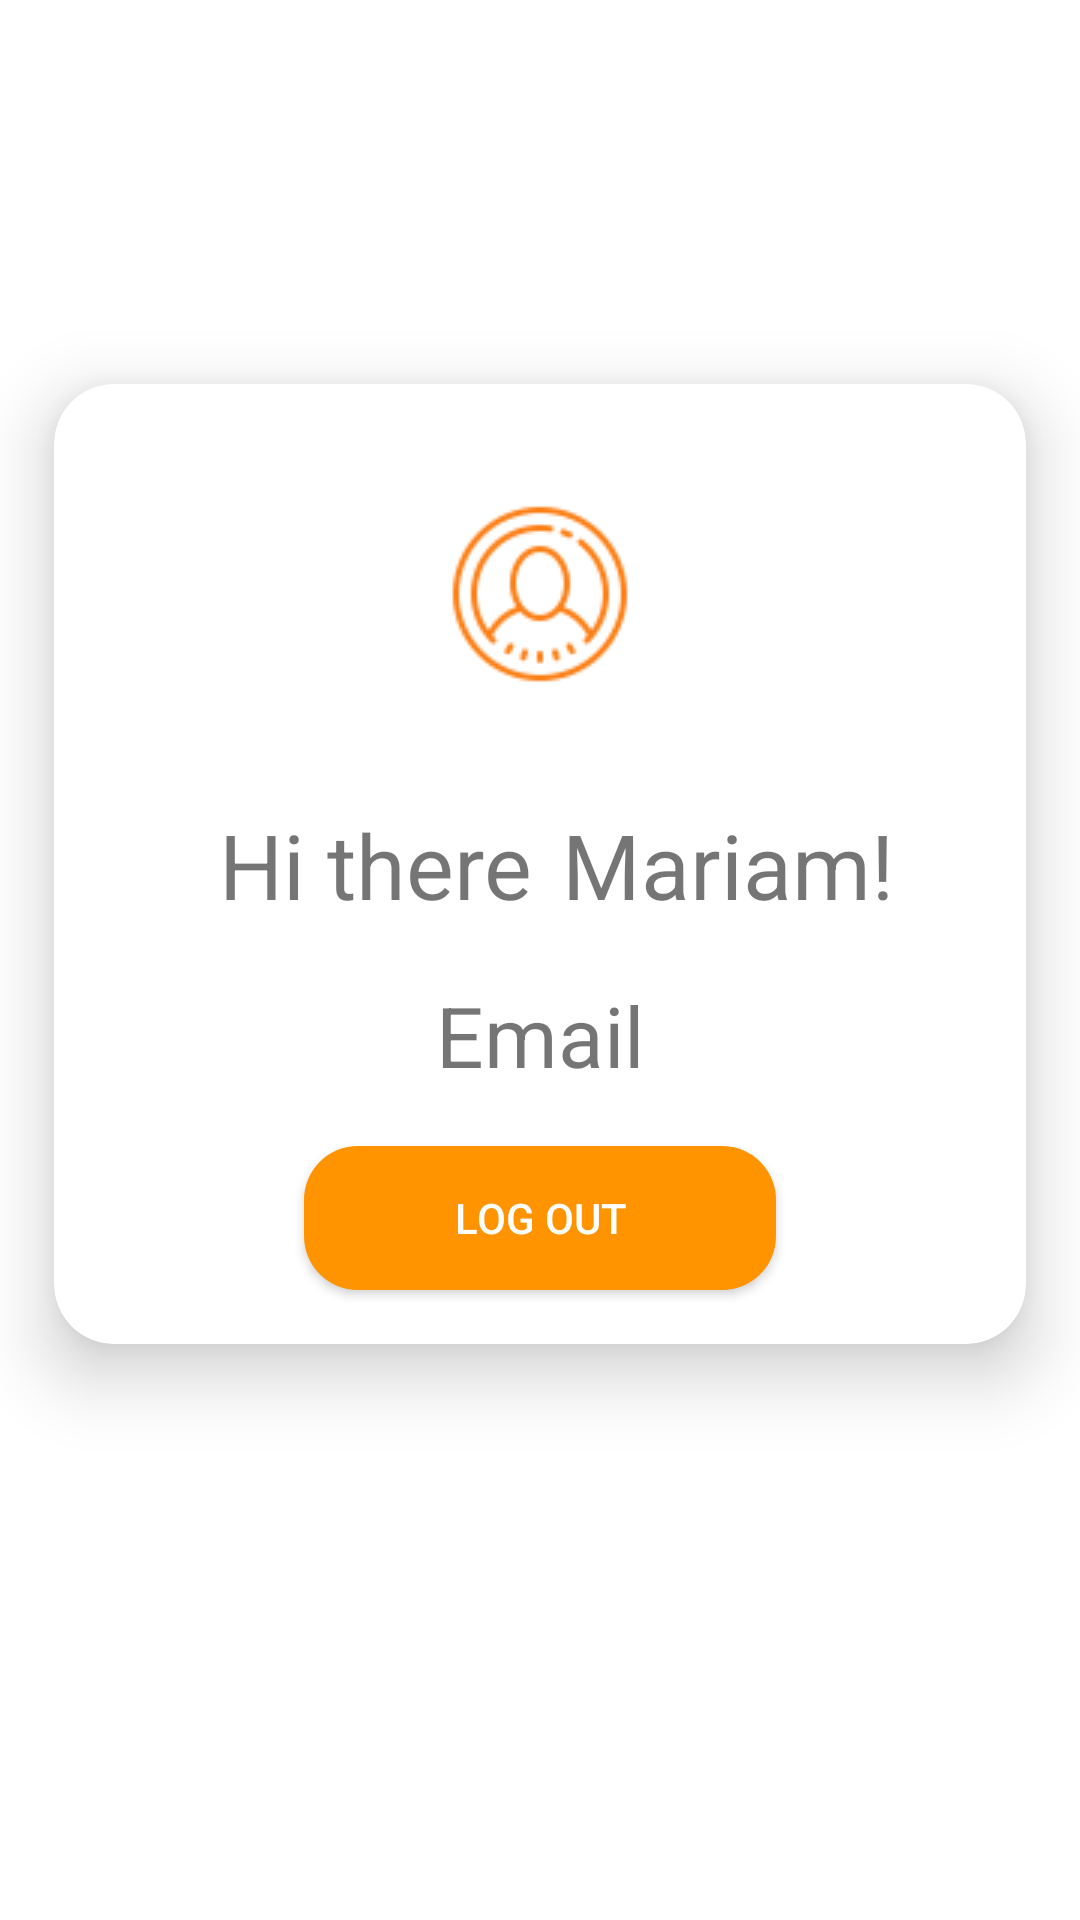

Icons on this 1080 x 1920 Android screen, each with the point to tap as point (x, y):
defaultprofile: point (540, 594)
